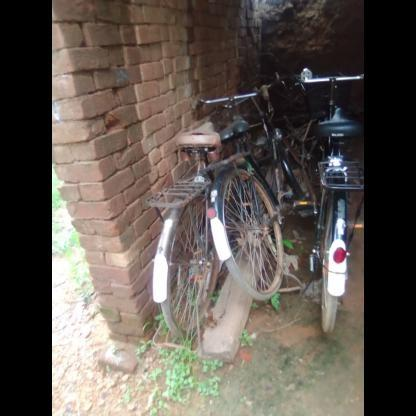Bicycle: (202, 75, 312, 331), (293, 75, 363, 349)
